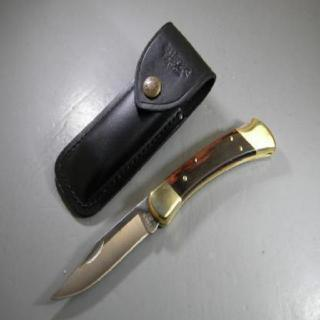knife: (46, 190, 170, 304)
